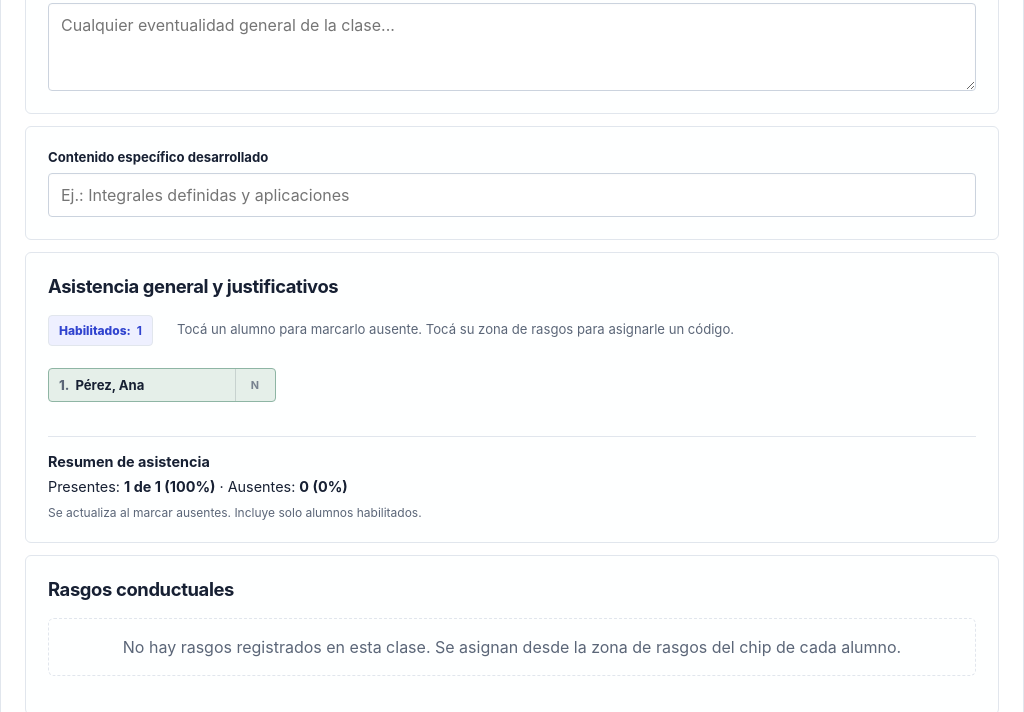
Test: Inicio de clase › no copia rasgos de clases anteriores y permite asignar uno nuevo desde el chip del alumno
The width and height of the screenshot is (1024, 712).
(page scrolled)
Expected: the text "No hay rasgos registrados en esta clase" is shown, x1=123 y1=637 x2=901 y2=657
Step 1. Click the button named "Rasgos conductuales de Pérez, Ana" → (254, 385), box x1=234 y1=369 x2=274 y2=401
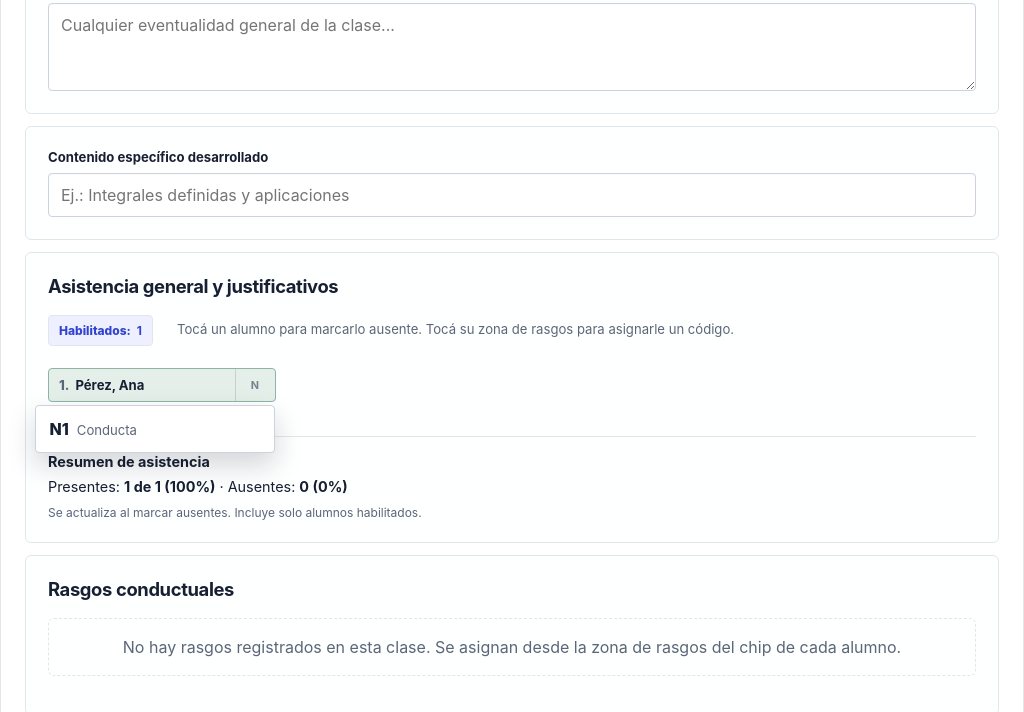
Step 2. Click the option "N1 Conducta" → (154, 429), box x1=42 y1=412 x2=268 y2=446
(page scrolled)
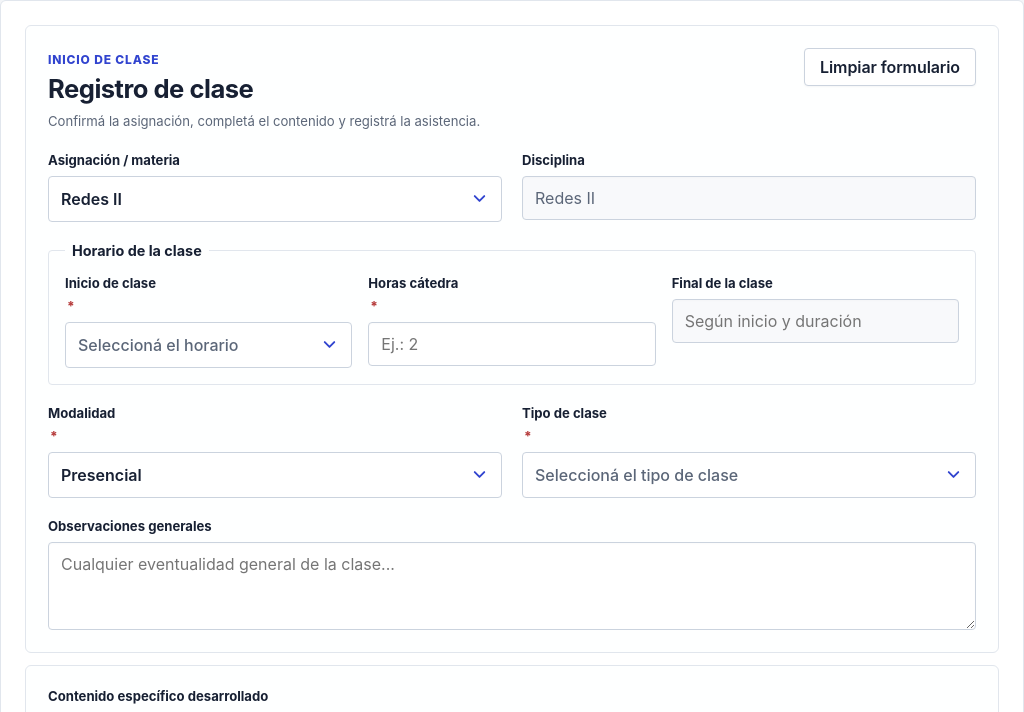
Expected: the text "No hay rasgos registrados en esta clase" is gone
Step 3. Click the button "Limpiar formulario" → (890, 67), box x1=804 y1=48 x2=976 y2=86
(page scrolled)
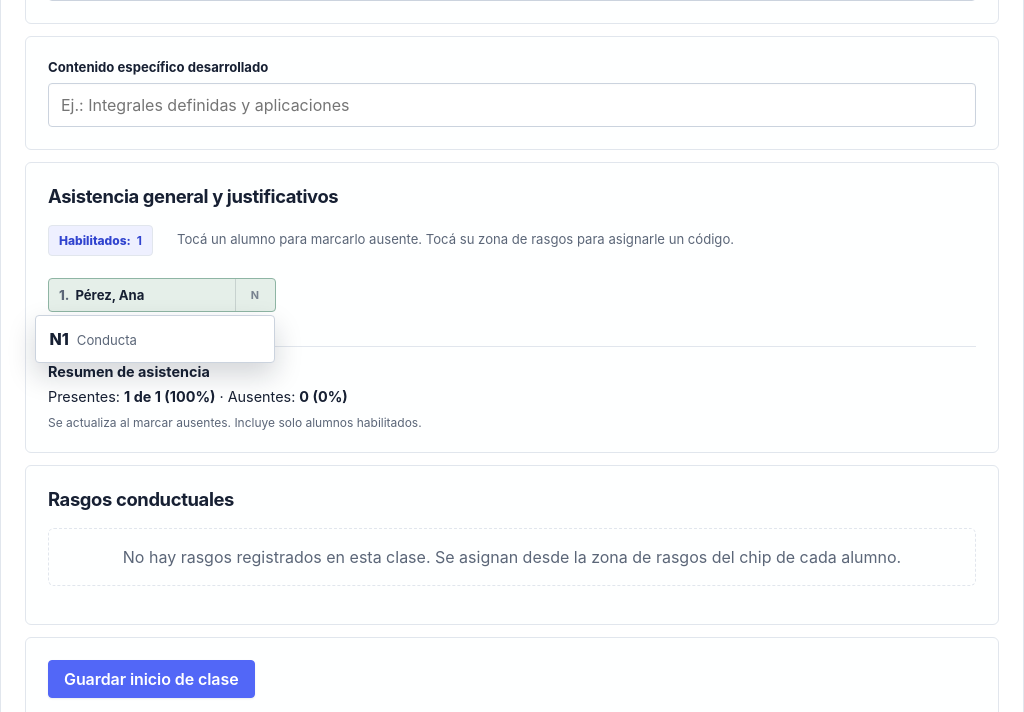
Expected: the text "No hay rasgos registrados en esta clase" is shown, x1=123 y1=547 x2=901 y2=567
